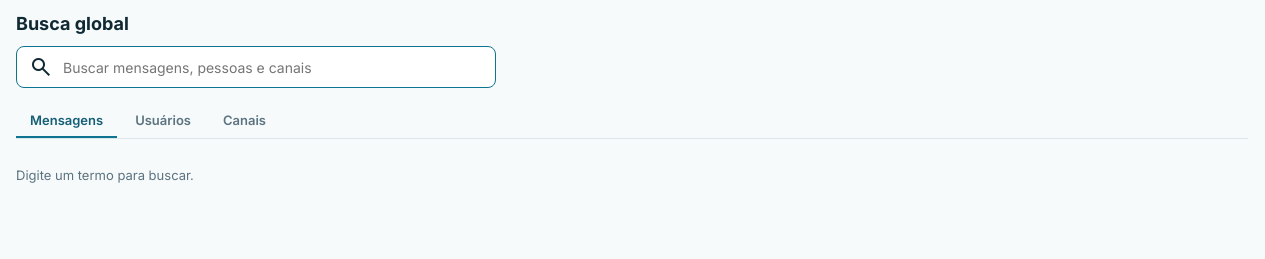
Test case: GlobalSearchPage › switching tabs after results are loaded does not refetch and preserves other tabs' results
Type "orion" into the search field labelled "Buscar mensagens, pessoas e canais". click: x=272, y=67
box: 61,58 -> 483,76
Wait 300 ms
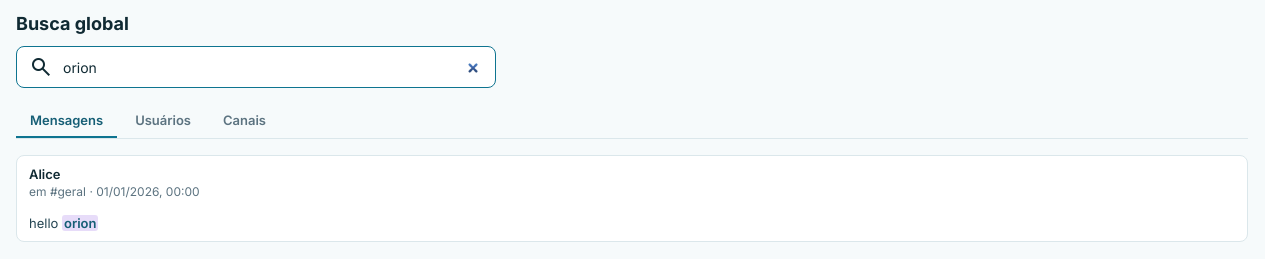
Expected: the text "Alice" is shown, 29,166 -> 60,182
Click the tab "Usuários". click: x=163, y=121
box: 121,104 -> 205,138
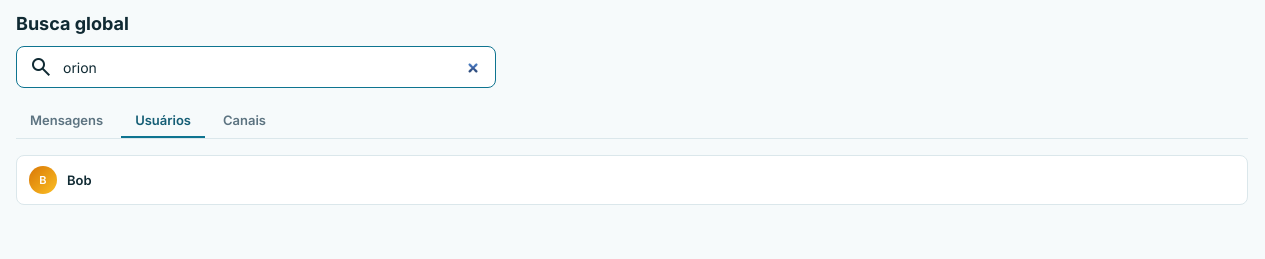
Expected: the text "Bob" is shown, 67,172 -> 92,188
Click the tab "Mensagens". click: x=67, y=121
box: 16,104 -> 117,138
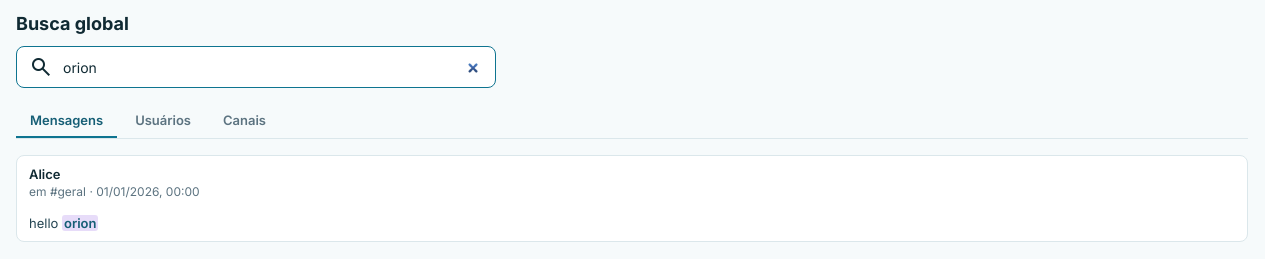
Expected: the text "Alice" is shown, 29,166 -> 60,182
